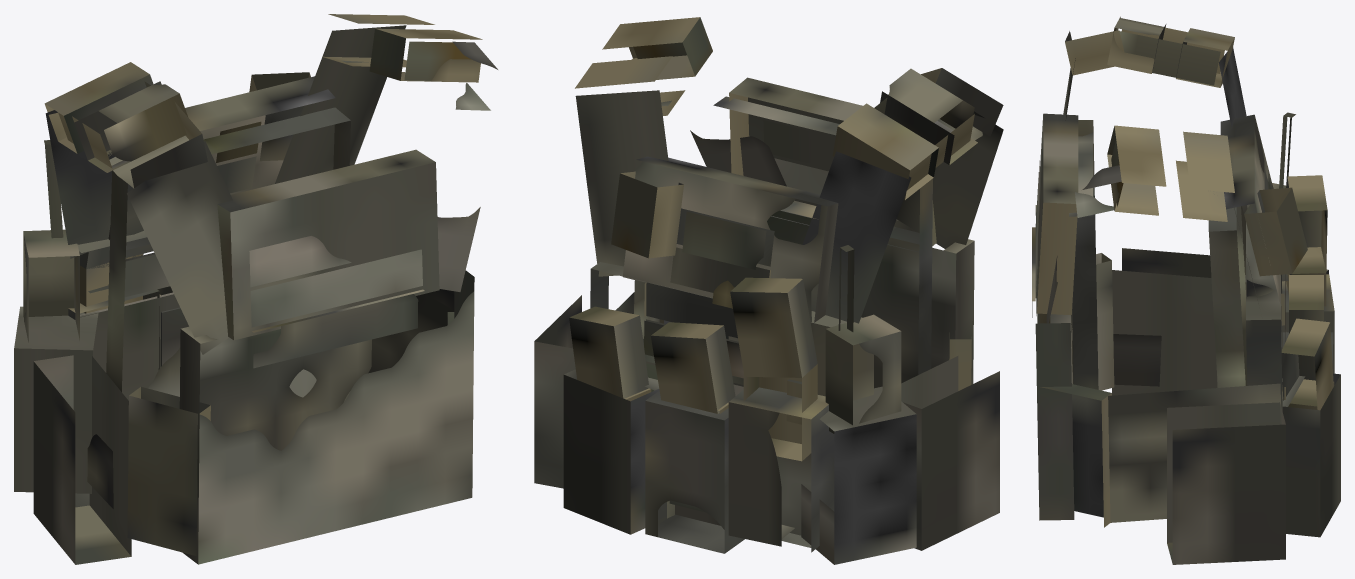
File: infantry.obj
3 renders of one model, left to right at view 1: azimuth 30°, elevation 25°; view 2: azimuth 150°, elevation 25°; view 3: azimuth 270°, elevation 25°, orthographic. The views are drawn at different scales.
Visible parts, largest first — view 1: plane; view 2: plane; view 3: plane.
Part boxes in pixels (x1,y1,x2,y2): plane: (14,14,497,564); plane: (534,17,1003,564); plane: (1032,16,1340,564).
Size of the model in its own units: 0.7673 by 0.7843 by 0.5505.
